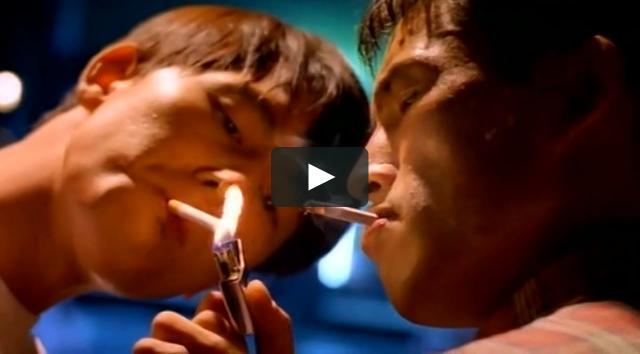Smoking: (304, 198, 371, 226), (168, 195, 218, 230)
